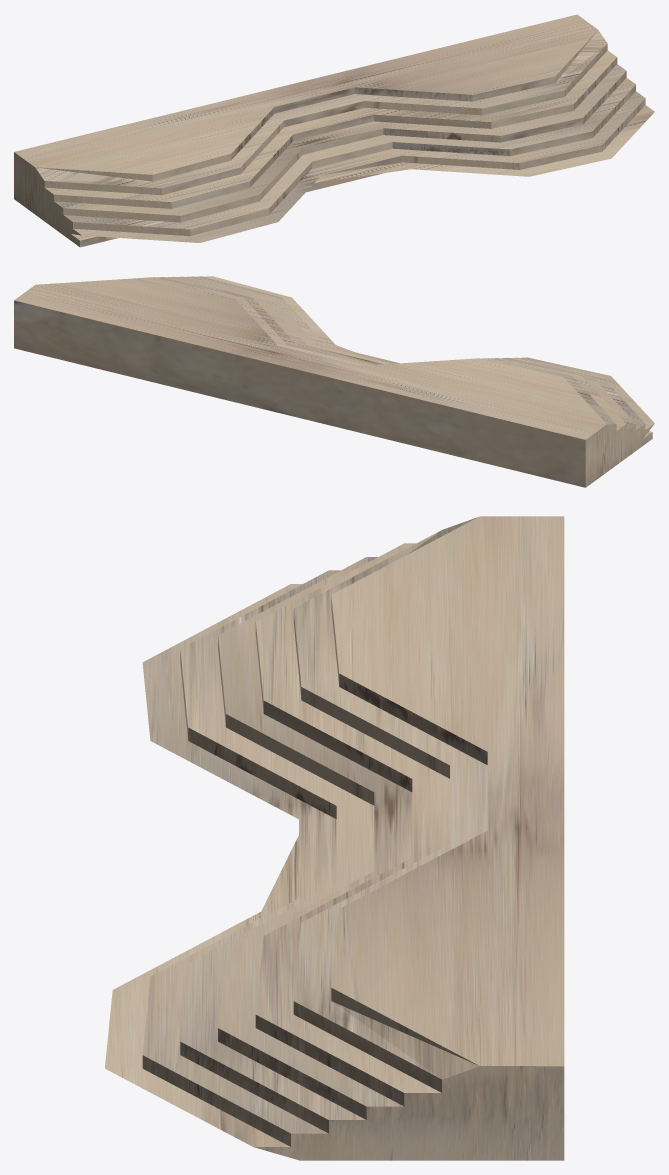
The model's file is Stairs_Inside.obj.
3 renders of one model, top to bottom at view 1: azimuth 30°, elevation 25°; view 2: azimuth 150°, elevation 25°; view 3: azimuth 270°, elevation 25°, orthographic. The views are drawn at different scales.
Parts seen in each view (by area): view 1: Stairs_Inside_Cube.011; view 2: Stairs_Inside_Cube.011; view 3: Stairs_Inside_Cube.011.
Boxes of the visible parts, x1,y1,x2,y2 form: Stairs_Inside_Cube.011: (14,14,654,247); Stairs_Inside_Cube.011: (14,276,654,487); Stairs_Inside_Cube.011: (105,516,564,1160).
Bounding box in the file's own units: 9.13 × 0.7317 × 3.22.
